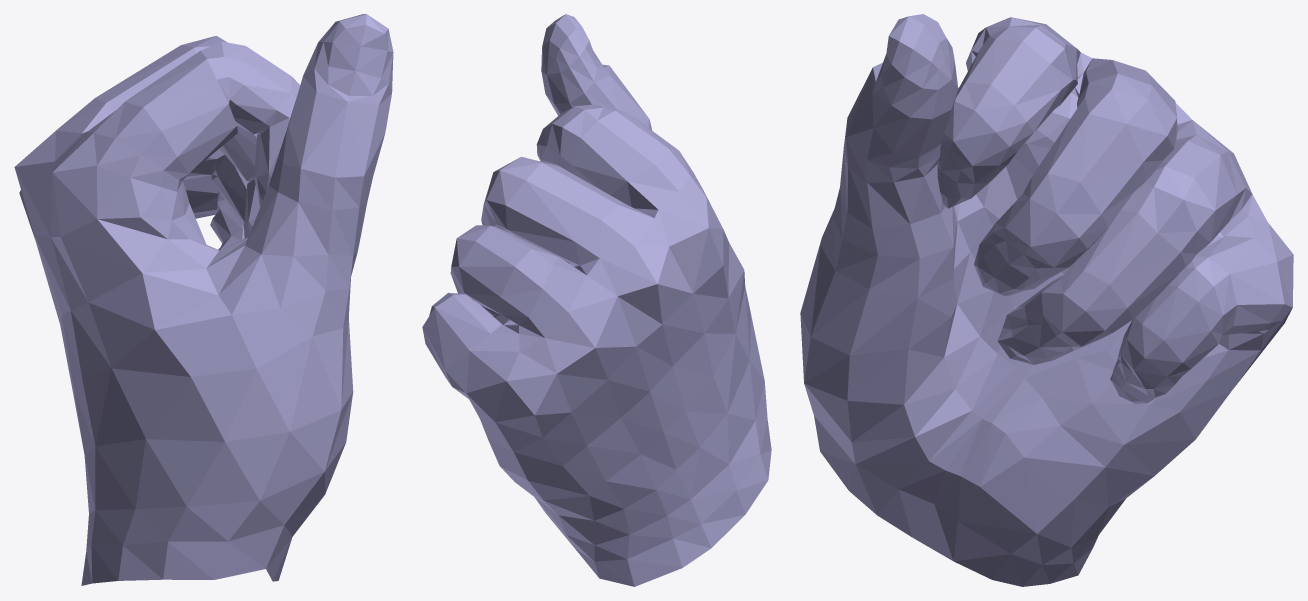
Rendered from frame_0022_source_000022_hand.glb.
The picture shows the model from 3 angles, left to right: view 1: azimuth 30°, elevation 25°; view 2: azimuth 150°, elevation 25°; view 3: azimuth 270°, elevation 25°; orthographic projection. The views are drawn at different scales.
Visible parts, largest first — view 1: world; view 2: world; view 3: world.
Part boxes in pixels (bbox=[...]): world: bbox=[14, 14, 393, 585]; world: bbox=[422, 14, 771, 586]; world: bbox=[800, 14, 1293, 586].
Bounding box in the file's own units: 0.0616 × 0.1252 × 0.0901.
